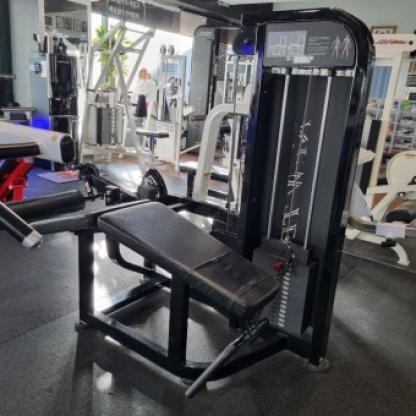reg curl machine: (0, 8, 376, 393)
